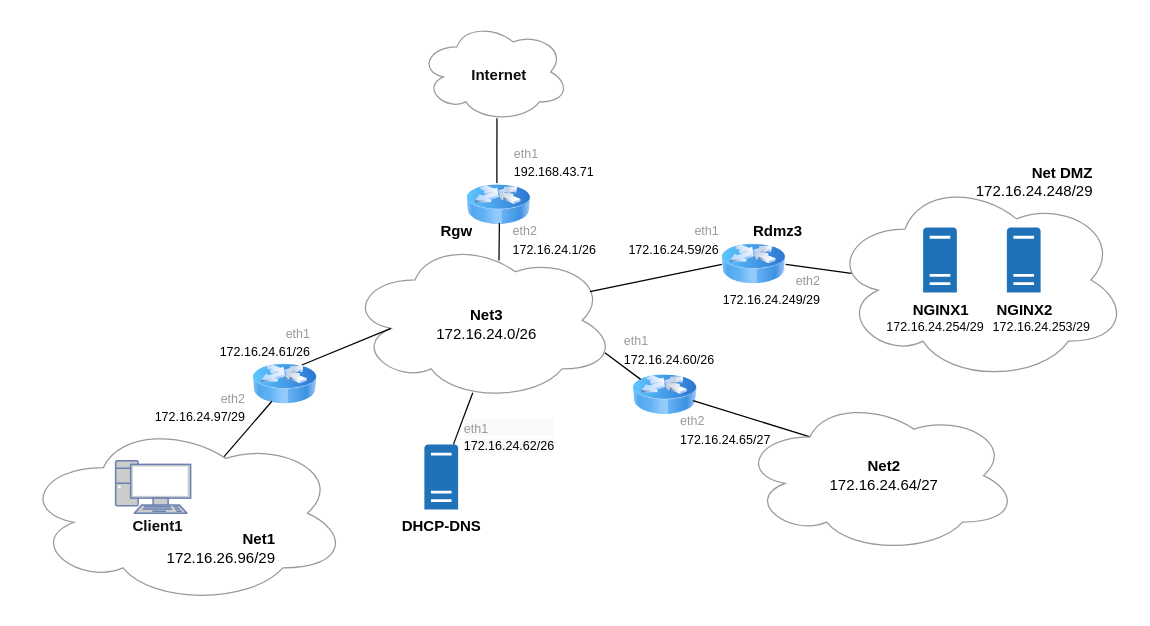
The diagram is 1150 pixels wide and 626 high, and some of its shapes have lost their labels. Each missing label, with the centre of its shape:
"R13" goes at (284,384).
"R23" goes at (664,394).
